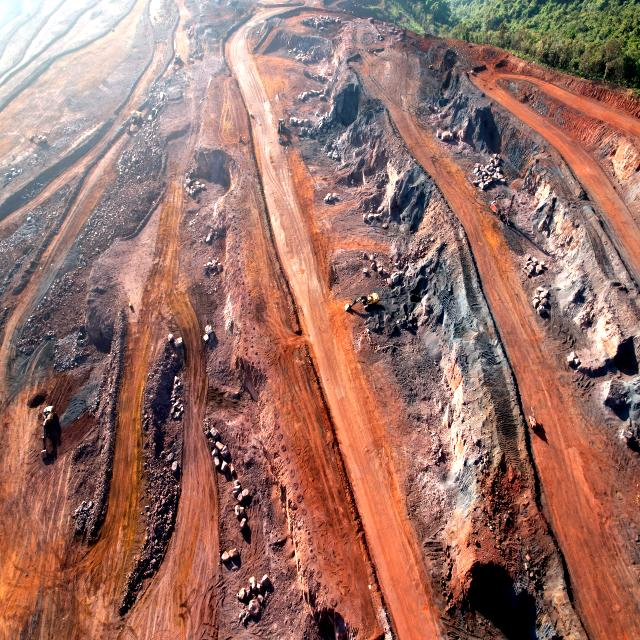Blast rig: (491, 194, 515, 225)
Excavator: (40, 406, 58, 458), (344, 290, 380, 313), (127, 108, 143, 134), (30, 132, 48, 147), (276, 117, 286, 143), (171, 53, 181, 71)
